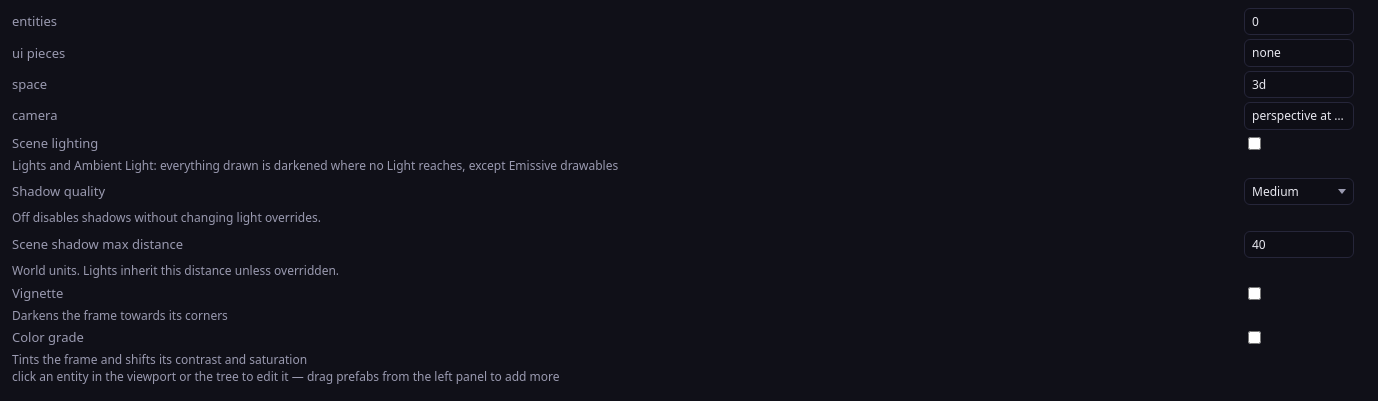
CA-11: an empty distance draft is not persisted or converted to zero
Clear the number field labelled "Scene shadow max distance" at x=1299, y=244, box left=1244, top=231, right=1354, bottom=258
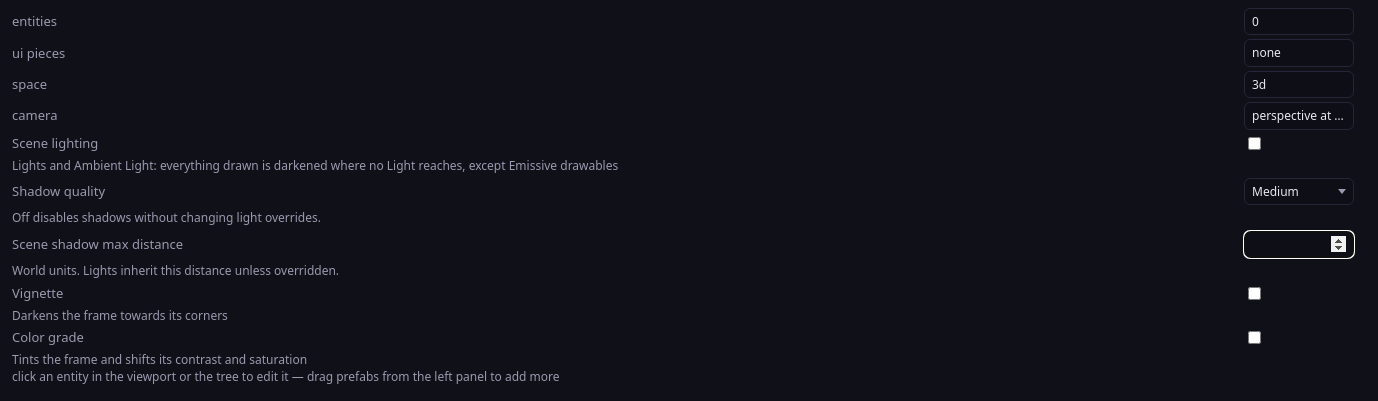
Press Tab
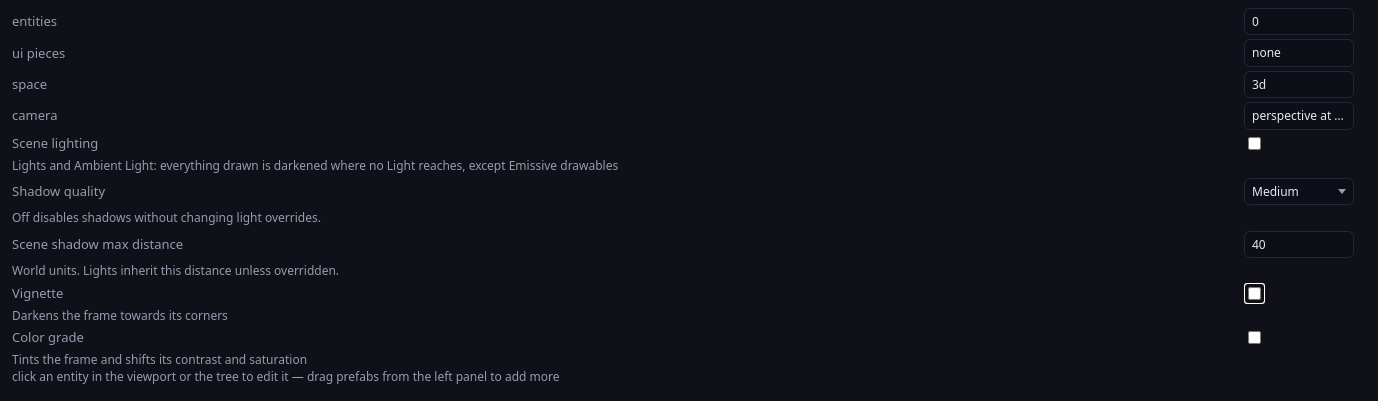
Result: the number field labelled "Scene shadow max distance" holds "40" at left=1244, top=231, right=1354, bottom=258
